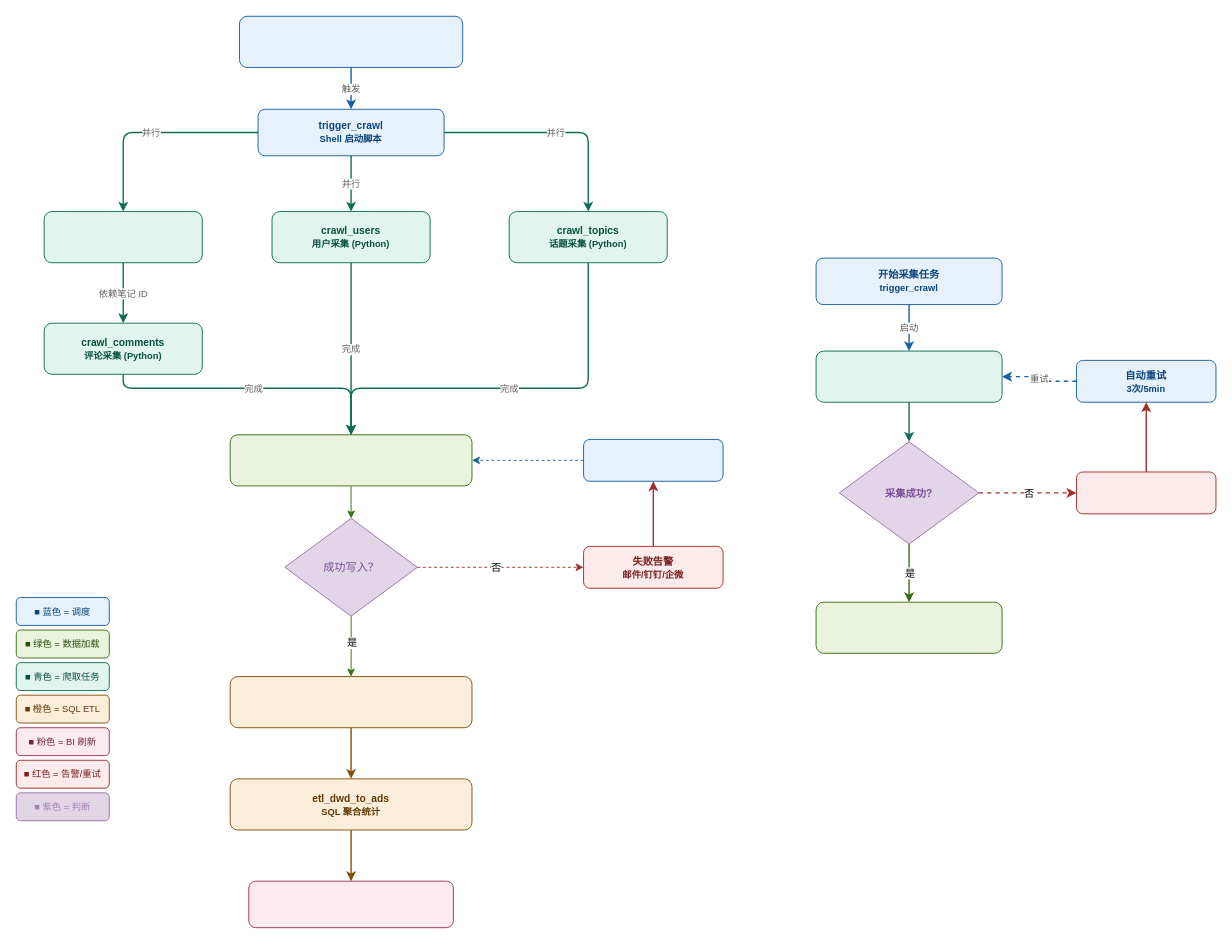
Some shapes in this 1232 by 944 pixel diagram are drawn without their labels. The box of each missing label's shape, as (x1, y1, x2, y2) in pixels:
crawl_notes 笔记采集 (Python): (43, 211, 202, 263)
etl_ods_to_dwd SQL 清洗 + 标准化: (229, 676, 472, 728)
load_ods pymysql 批量写入 ODS: (229, 434, 472, 486)
refresh_bi HTTP 触发 QuickBI 刷新: (248, 880, 453, 928)
写入数据库 pymysql → ODS: (815, 601, 1002, 653)
定时触发器 每日 01:00 / 4h 热点: (239, 15, 463, 67)
执行数据采集 Python 爬虫: (815, 350, 1002, 402)
自动重试 (3x) 间隔 5min 递增: (583, 438, 723, 481)
触发告警 通知运维: (1076, 471, 1216, 514)
